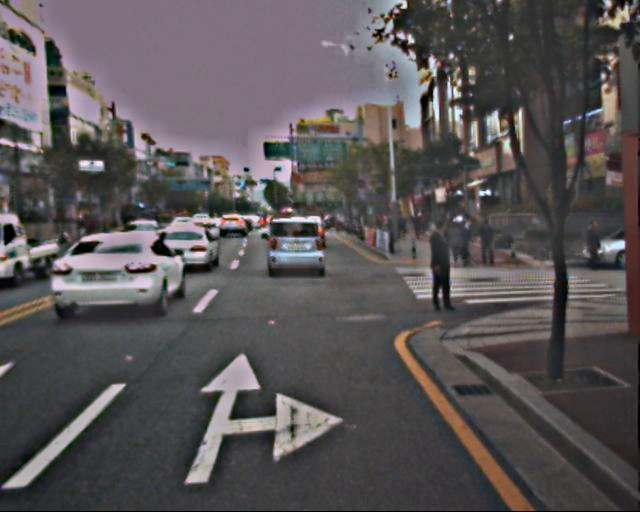person: (420, 216, 461, 315), (446, 211, 471, 265), (583, 216, 604, 268), (477, 217, 498, 267)
